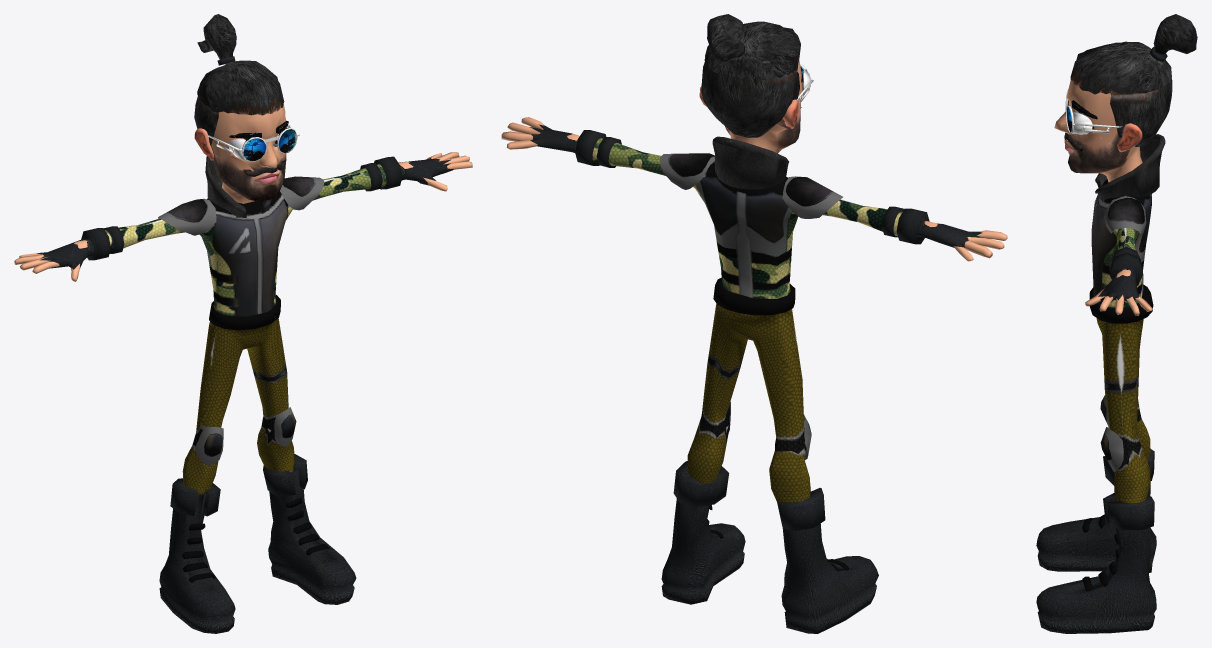
Rendered from Alok-SuperLowRes.fbx.
The picture shows the model from 3 angles, left to right: view 1: azimuth 30°, elevation 25°; view 2: azimuth 150°, elevation 25°; view 3: azimuth 270°, elevation 25°; orthographic projection. The views are drawn at different scales.
Parts seen in each view (by area): view 1: Corpo_Cube.002; view 2: Corpo_Cube.002; view 3: Corpo_Cube.002.
Part boxes in pixels (bbox=[...]): Corpo_Cube.002: bbox=[14, 14, 472, 633]; Corpo_Cube.002: bbox=[501, 14, 1007, 633]; Corpo_Cube.002: bbox=[1036, 14, 1197, 633].
Size of the model in its own units: 1215 by 1434 by 361.
Materials: 23 (20 with a texture image).
